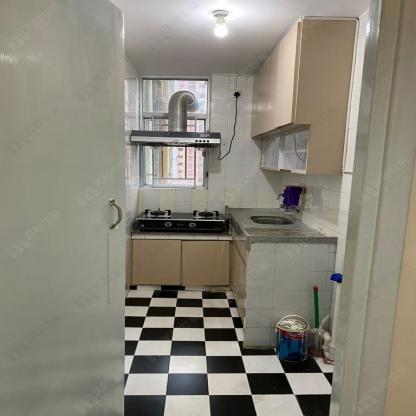Cupboard: (253, 18, 360, 175), (130, 241, 231, 289)
Exhaust Hood: (130, 90, 225, 147)
Sink: (250, 214, 295, 224)
Stove: (126, 207, 234, 234)
